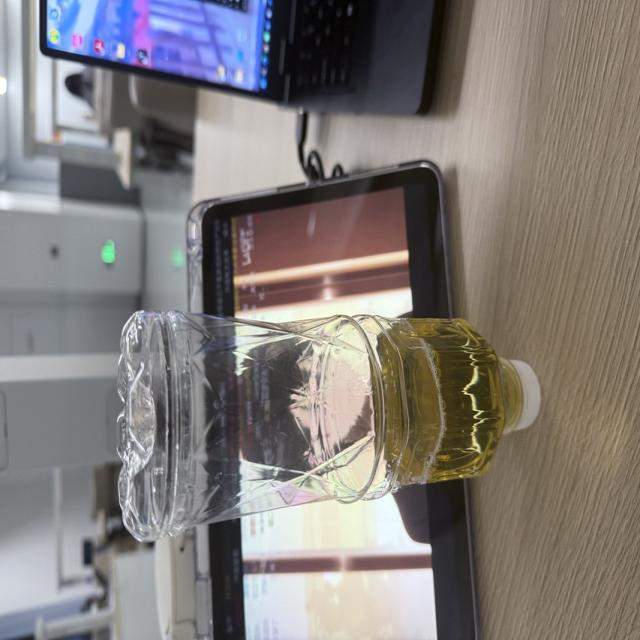low: (117, 311, 539, 540)
